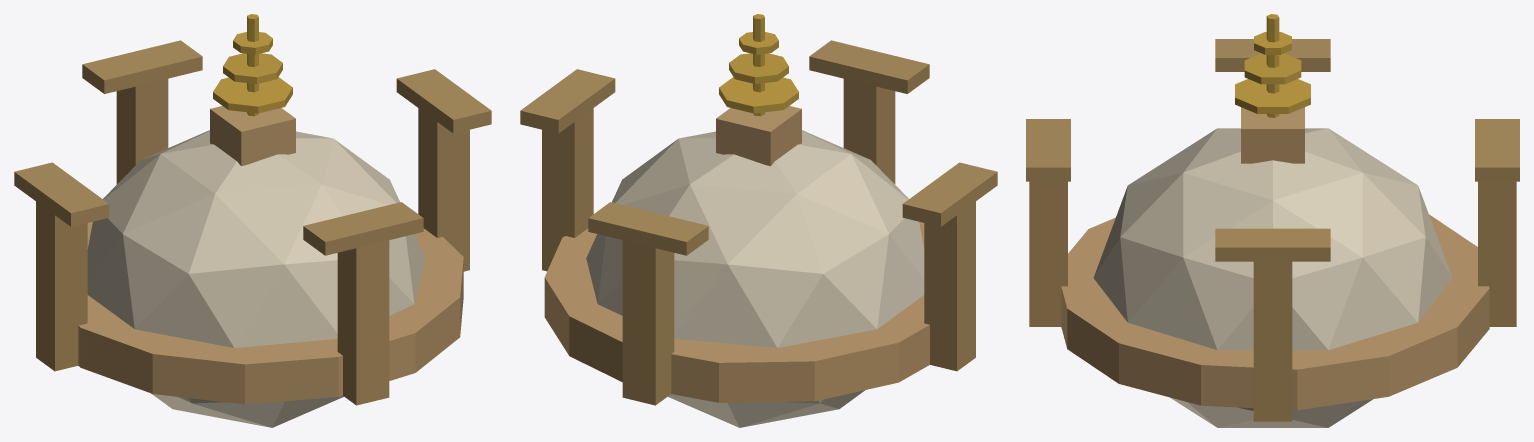
The model's file is cat_landmark_broken.glb.
The picture shows the model from 3 angles, left to right: view 1: azimuth 30°, elevation 25°; view 2: azimuth 150°, elevation 25°; view 3: azimuth 270°, elevation 25°; orthographic projection.
Parts seen in each view (by area): view 1: cat_landmark_piece1, cat_landmark_piece10, cat_landmark_piece9, cat_landmark_piece6, cat_landmark_piece7, cat_landmark_piece13, cat_landmark_piece8, cat_landmark_piece2, cat_landmark_piece0, cat_landmark_piece4, cat_landmark_piece12; view 2: cat_landmark_piece6, cat_landmark_piece8, cat_landmark_piece3, cat_landmark_piece13, cat_landmark_piece9, cat_landmark_piece2, cat_landmark_piece10, cat_landmark_piece7, cat_landmark_piece1, cat_landmark_piece5, cat_landmark_piece4, cat_landmark_piece12; view 3: cat_landmark_piece13, cat_landmark_piece1, cat_landmark_piece9, cat_landmark_piece0, cat_landmark_piece3, cat_landmark_piece8, cat_landmark_piece5, cat_landmark_piece10, cat_landmark_piece2, cat_landmark_piece6, cat_landmark_piece7, cat_landmark_piece12.
Part boxes in pixels (x1,y1,x2,y2): cat_landmark_piece1: (211,176,460,407); cat_landmark_piece10: (183,191,423,377); cat_landmark_piece9: (183,14,349,239); cat_landmark_piece6: (14,158,153,383); cat_landmark_piece7: (88,150,187,395); cat_landmark_piece13: (335,69,491,241); cat_landmark_piece8: (82,40,202,248); cat_landmark_piece2: (163,130,217,386); cat_landmark_piece0: (345,175,469,325); cat_landmark_piece4: (151,377,317,427); cat_landmark_piece12: (62,186,95,226); cat_landmark_piece6: (787,178,991,401); cat_landmark_piece8: (588,202,815,401); cat_landmark_piece3: (558,265,819,427); cat_landmark_piece13: (520,69,676,278); cat_landmark_piece9: (658,14,889,194); cat_landmark_piece2: (650,156,920,229); cat_landmark_piece10: (802,40,929,248); cat_landmark_piece7: (757,162,979,290); cat_landmark_piece1: (843,112,924,245); cat_landmark_piece5: (544,269,603,340); cat_landmark_piece4: (791,390,865,418); cat_landmark_piece12: (936,167,997,189); cat_landmark_piece13: (1213,202,1427,421); cat_landmark_piece1: (1029,197,1210,414); cat_landmark_piece9: (1176,14,1337,210); cat_landmark_piece0: (1139,202,1272,425); cat_landmark_piece3: (1399,229,1516,378); cat_landmark_piece8: (1346,119,1519,250); cat_landmark_piece5: (1216,296,1430,427); cat_landmark_piece10: (1026,119,1195,229); cat_landmark_piece2: (1305,128,1412,223); cat_landmark_piece6: (1233,39,1330,71); cat_landmark_piece7: (1215,47,1358,151); cat_landmark_piece12: (1215,39,1257,71).
Size of the model in its own units: 3.85 by 3.44 by 3.85.
